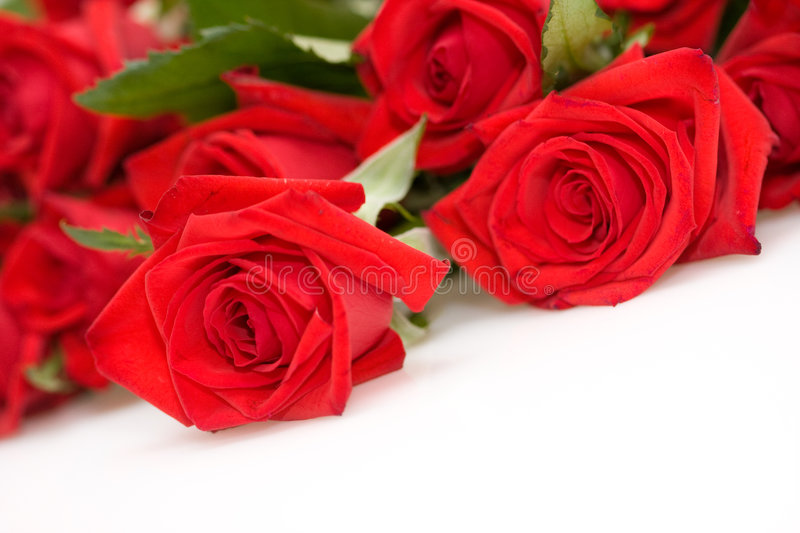RedRose: (130, 175, 392, 430), (457, 111, 725, 291), (366, 0, 542, 150), (0, 34, 167, 186)
